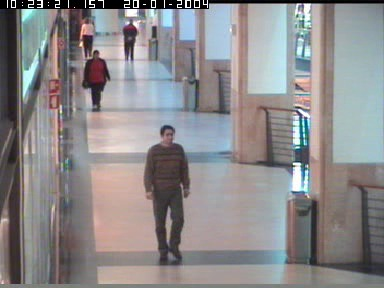person: (144, 124, 190, 264), (81, 47, 109, 111), (122, 18, 137, 61), (79, 17, 95, 56), (149, 9, 159, 39)
